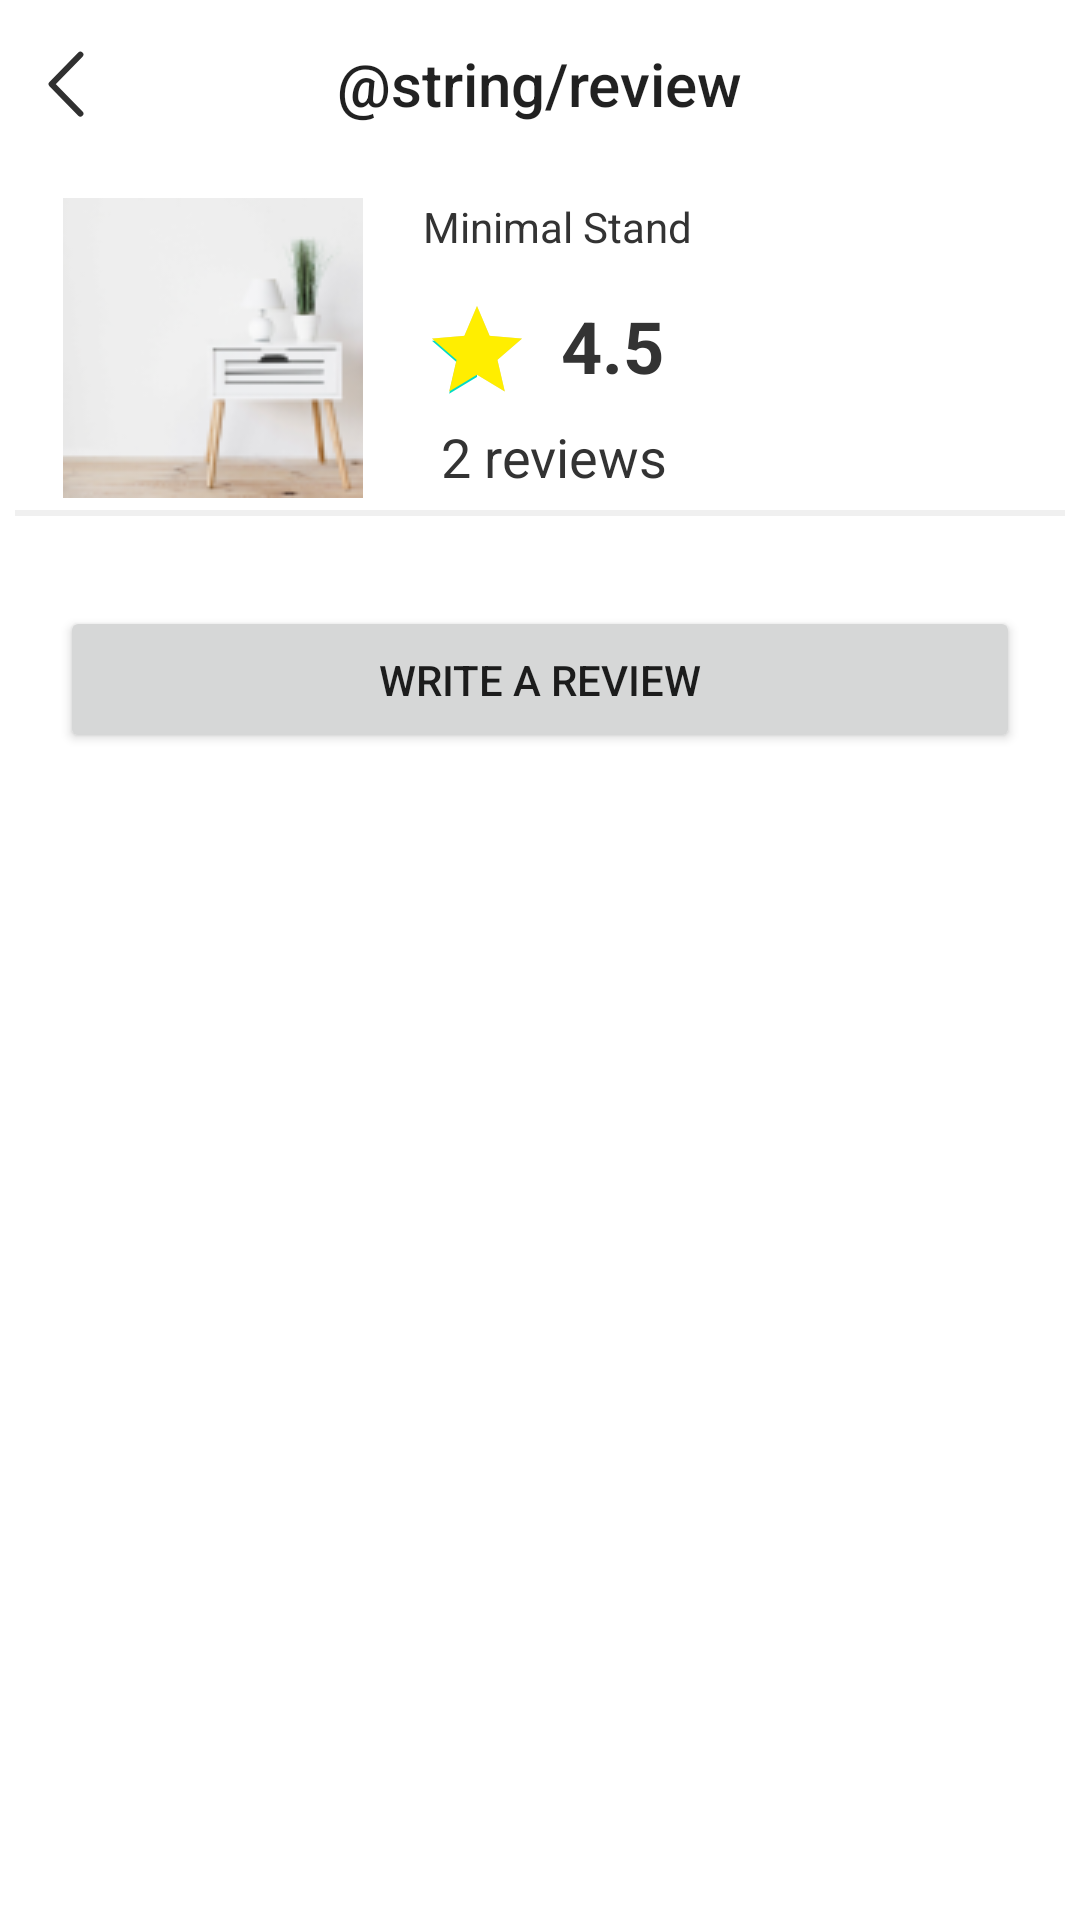

Screen size 1080 × 1920. Icon name, then its box in pixels as Rect(x1, y1, x2, y2):
back: Rect(48, 51, 84, 117)
